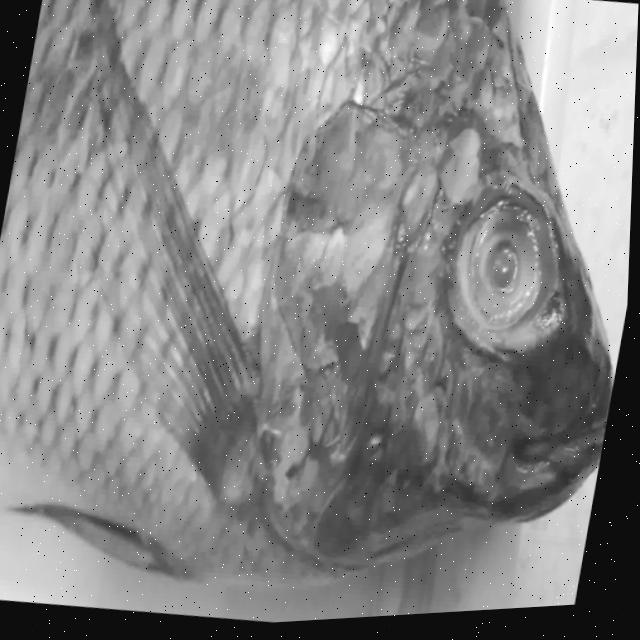Non-Fresh: (434, 180, 573, 363)
